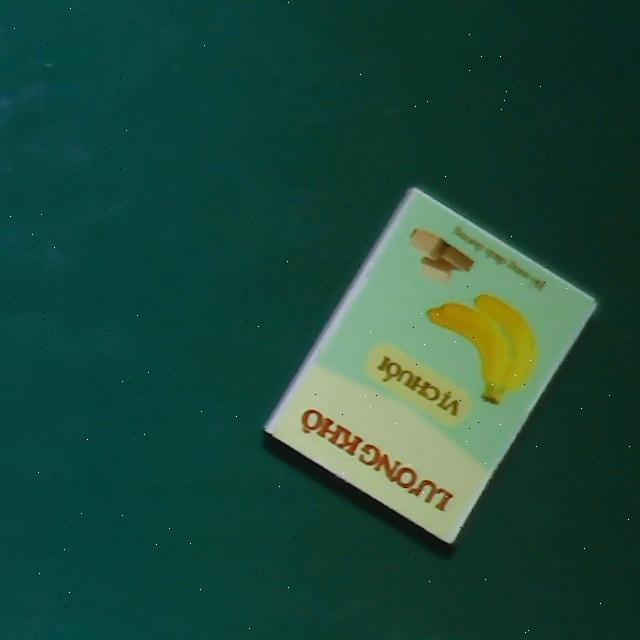chuoi: (262, 184, 602, 545)
